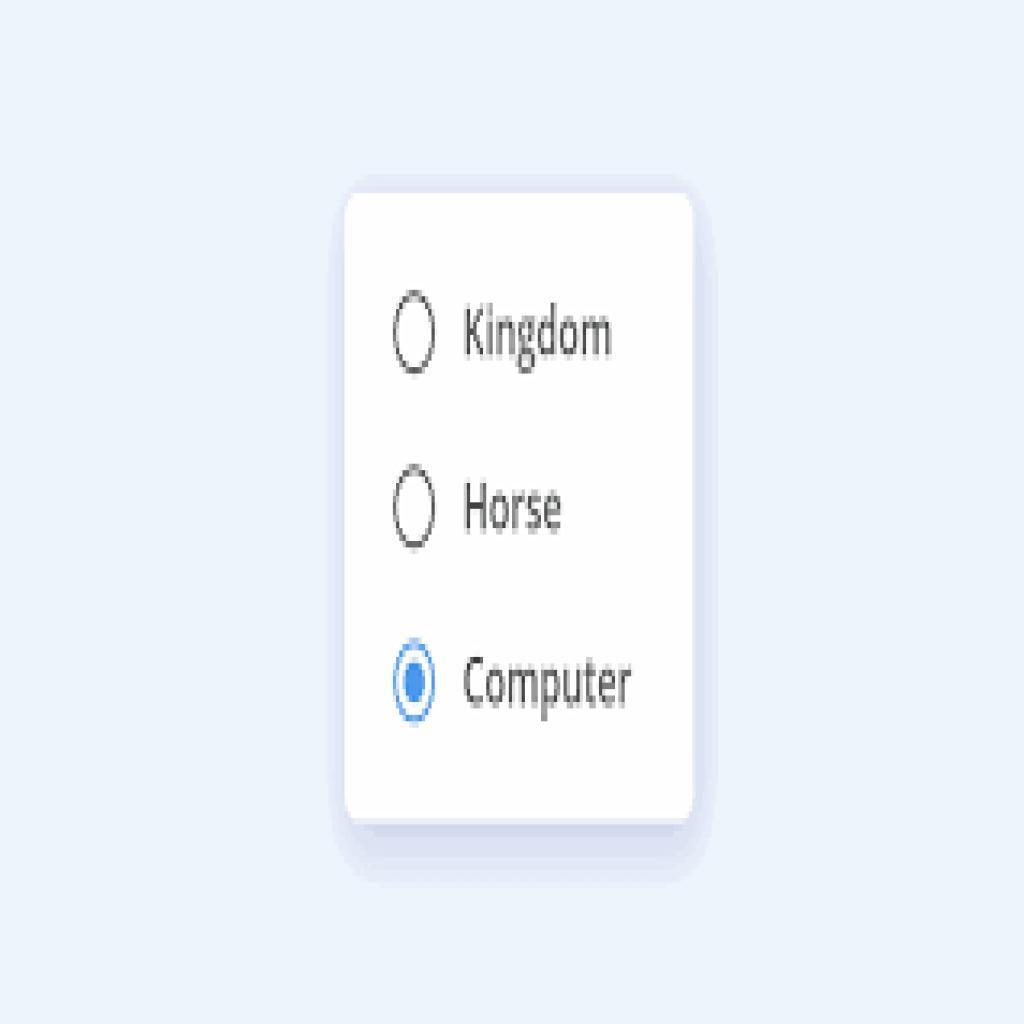radio: (388, 637, 440, 728), (393, 460, 440, 558), (393, 292, 442, 384)
